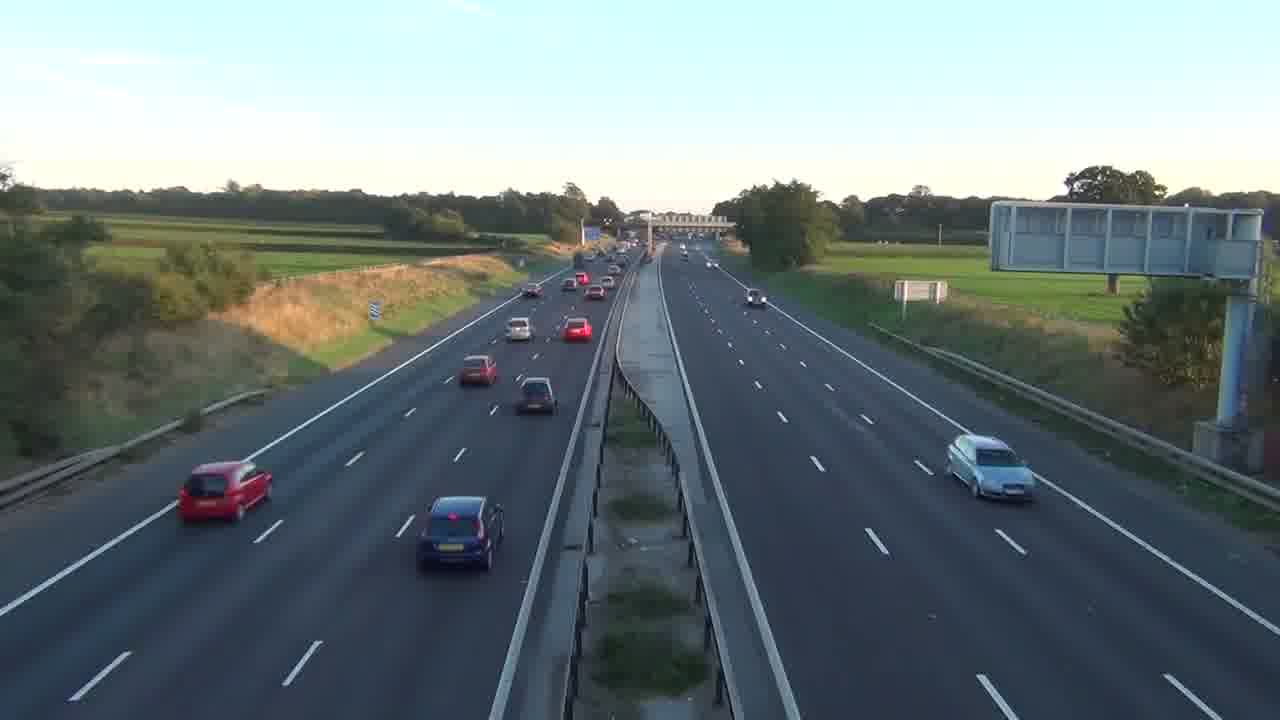car: (415, 495, 506, 572), (945, 432, 1038, 504), (177, 460, 273, 524), (514, 376, 558, 415), (458, 353, 499, 387), (559, 318, 592, 343), (504, 317, 533, 342), (561, 278, 578, 292)
